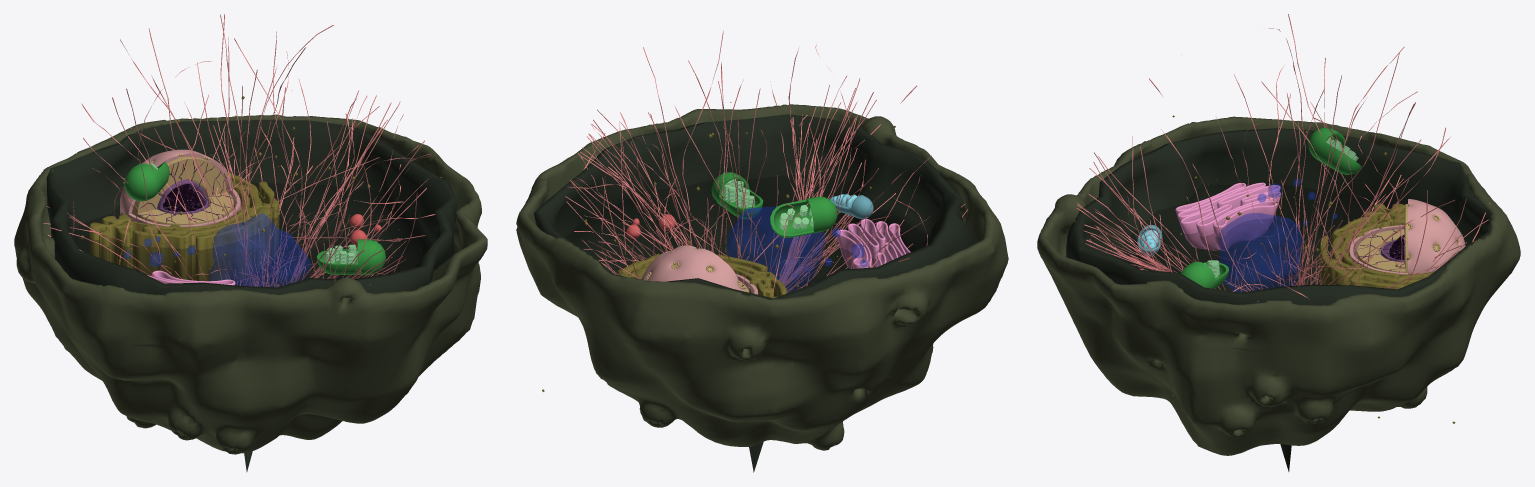
Rendered from plant_cell.glb.
The picture shows the model from 3 angles, left to right: view 1: azimuth 30°, elevation 25°; view 2: azimuth 150°, elevation 25°; view 3: azimuth 270°, elevation 25°; orthographic projection. The views are drawn at different scales.
Parts seen in each view (by area): view 1: cell_wall, lipid_bilayer, cytoskeleton, Disc, rough_smooth_er, central_vacuole_, Nucleus_2, Icosphere, Boole_1, Boole, Nucleolus_2, chromatin (+2 smaller); view 2: cell_wall, lipid_bilayer, cytoskeleton, Disc, central_vacuole_, Icosphere, golgi, Boole, rough_smooth_er, Boole_1, Cloner_1, Sphere_002 (+1 smaller); view 3: cell_wall, lipid_bilayer, cytoskeleton, Disc, central_vacuole_, golgi, rough_smooth_er, Icosphere, Nucleus_2, Boole, Boole_1.
Part boxes in pixels (box(x1,y1,x2,y2)): cell_wall: box(14, 114, 487, 454); lipid_bilayer: box(46, 120, 457, 472); cytoskeleton: box(43, 14, 441, 286); Disc: box(73, 183, 458, 347); rough_smooth_er: box(89, 172, 280, 281); central_vacuole_: box(209, 213, 311, 286); Nucleus_2: box(131, 156, 233, 225); Icosphere: box(120, 149, 240, 226); Boole_1: box(316, 239, 385, 274); Boole: box(124, 161, 169, 201); Nucleolus_2: box(162, 184, 201, 211); chromatin: box(139, 159, 232, 223); cell_wall: box(516, 104, 1008, 450); lipid_bilayer: box(534, 114, 974, 472); cytoskeleton: box(565, 30, 967, 297); Disc: box(565, 174, 928, 296); central_vacuole_: box(726, 207, 824, 292); Icosphere: box(641, 245, 758, 294); golgi: box(836, 219, 910, 268); Boole: box(770, 196, 837, 237); rough_smooth_er: box(618, 253, 786, 298); Boole_1: box(711, 172, 763, 219); Cloner_1: box(722, 179, 754, 207); Sphere_002: box(830, 195, 873, 218); cell_wall: box(1037, 116, 1520, 455); lipid_bilayer: box(1066, 128, 1490, 471); cytoskeleton: box(1074, 14, 1490, 395); Disc: box(1102, 184, 1403, 350); central_vacuole_: box(1218, 213, 1302, 292); golgi: box(1175, 182, 1281, 250); rough_smooth_er: box(1318, 203, 1434, 289); Icosphere: box(1350, 199, 1465, 275); Nucleus_2: box(1357, 204, 1438, 272); Boole: box(1308, 127, 1361, 174); Boole_1: box(1180, 261, 1228, 288).
Size of the model in its own units: 8.63 by 8.62 by 8.94.
